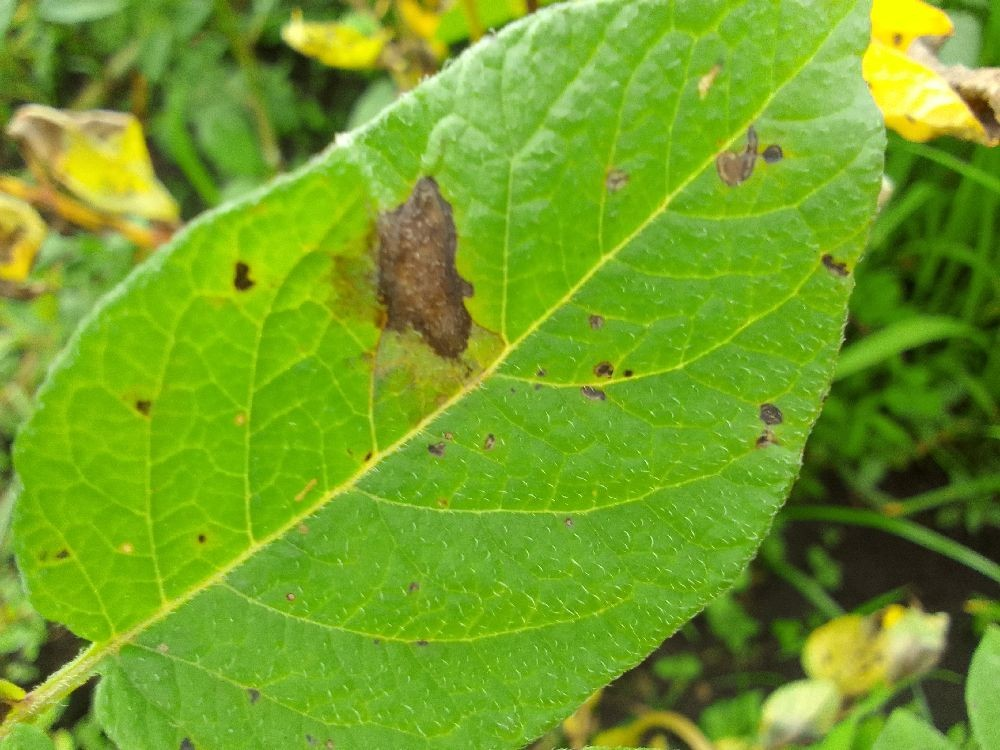late_blight: (0, 22, 236, 332), (755, 494, 1000, 750), (328, 163, 499, 424), (366, 0, 457, 86)
